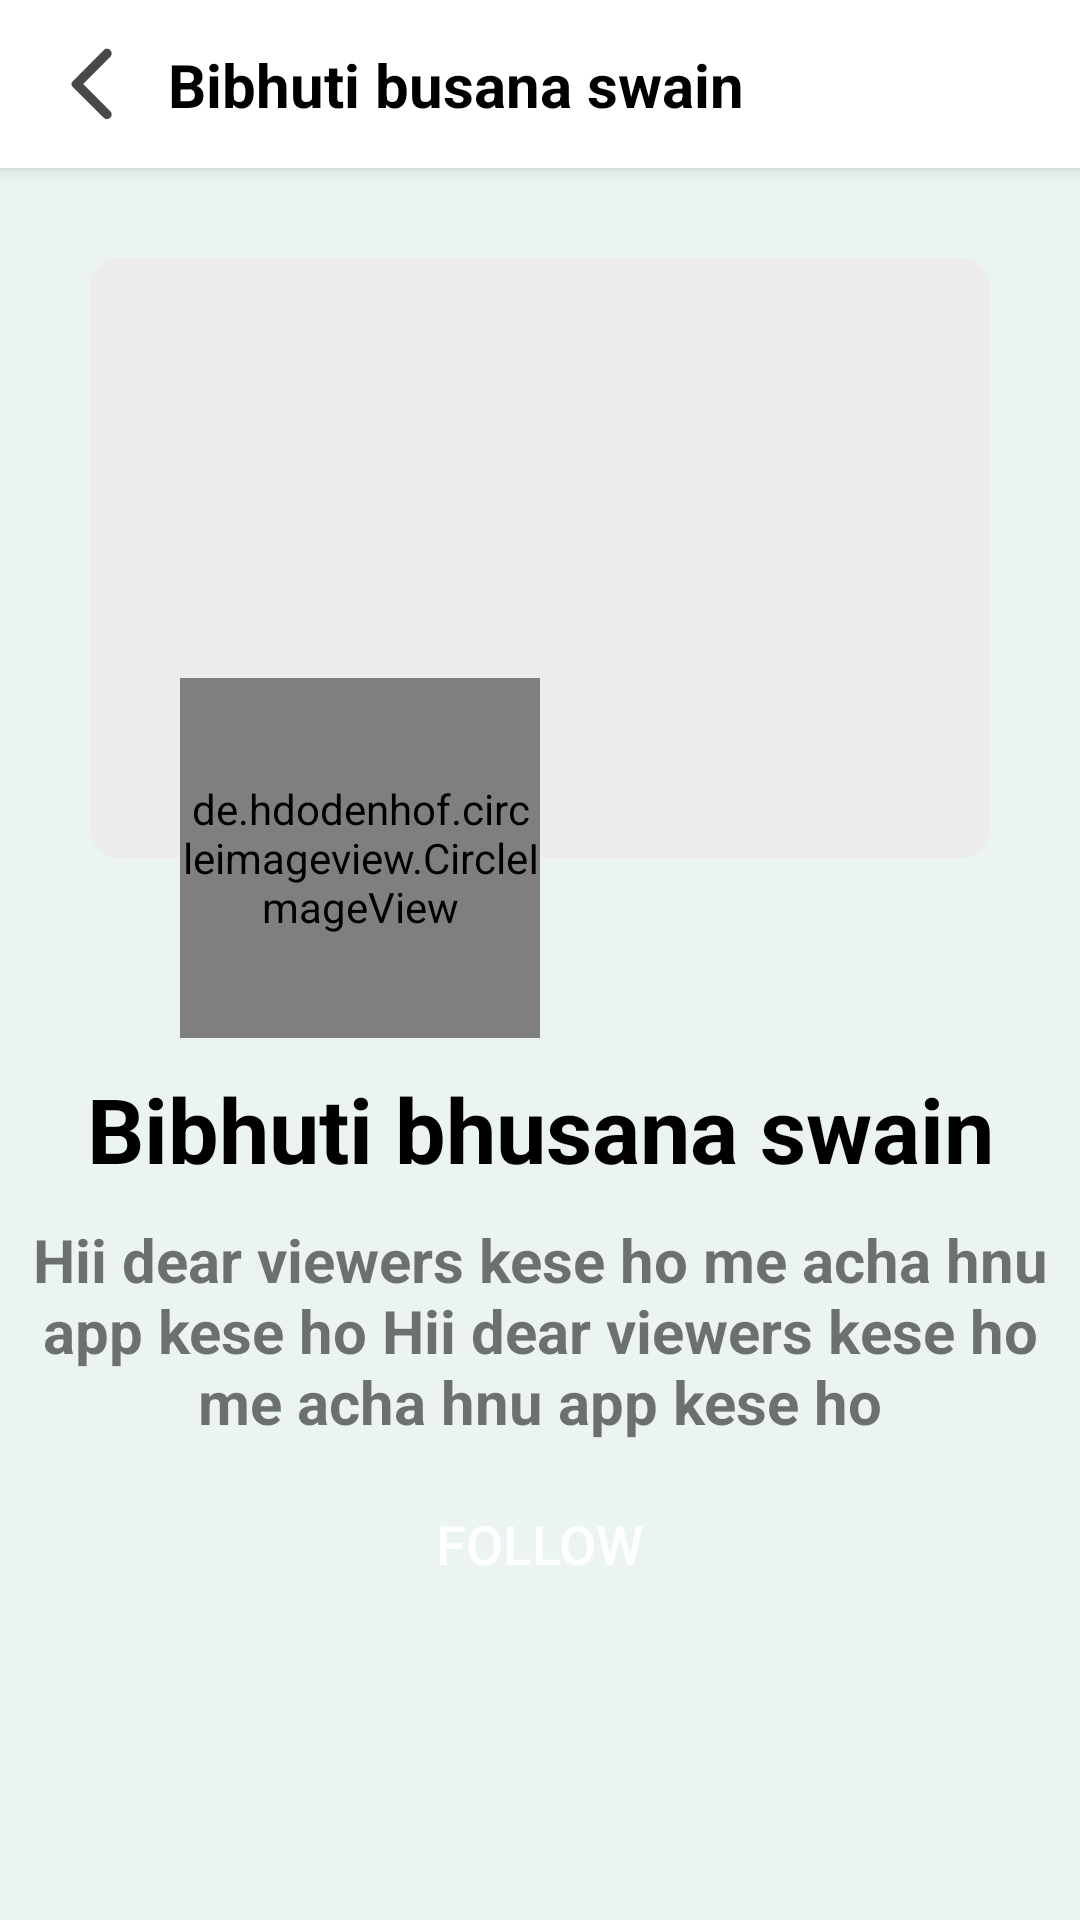

Icons on this 1080×1920 Android screen, each with the point to tap as point (x, y):
back arrow: point (91, 83)
